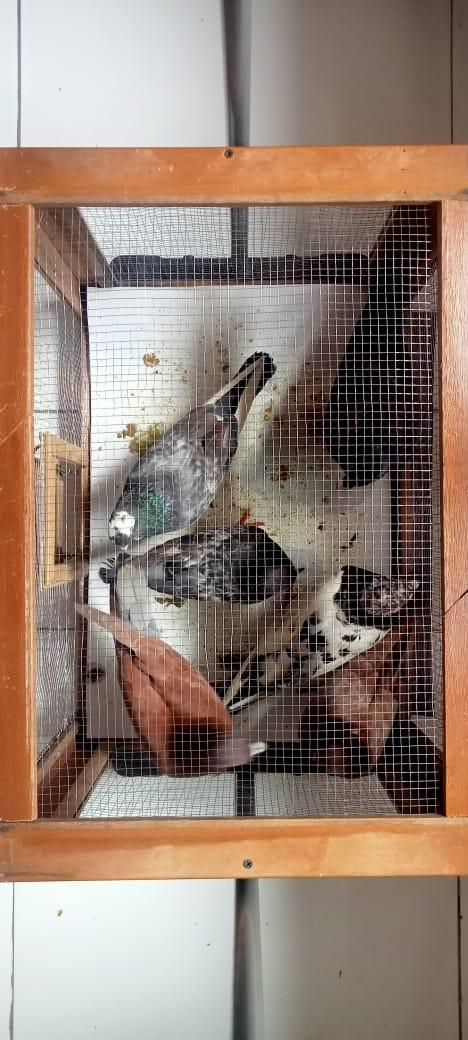Merpati: (72, 565, 273, 779), (110, 349, 275, 554), (221, 565, 422, 719), (324, 266, 414, 489), (299, 616, 421, 780), (101, 527, 306, 604)
